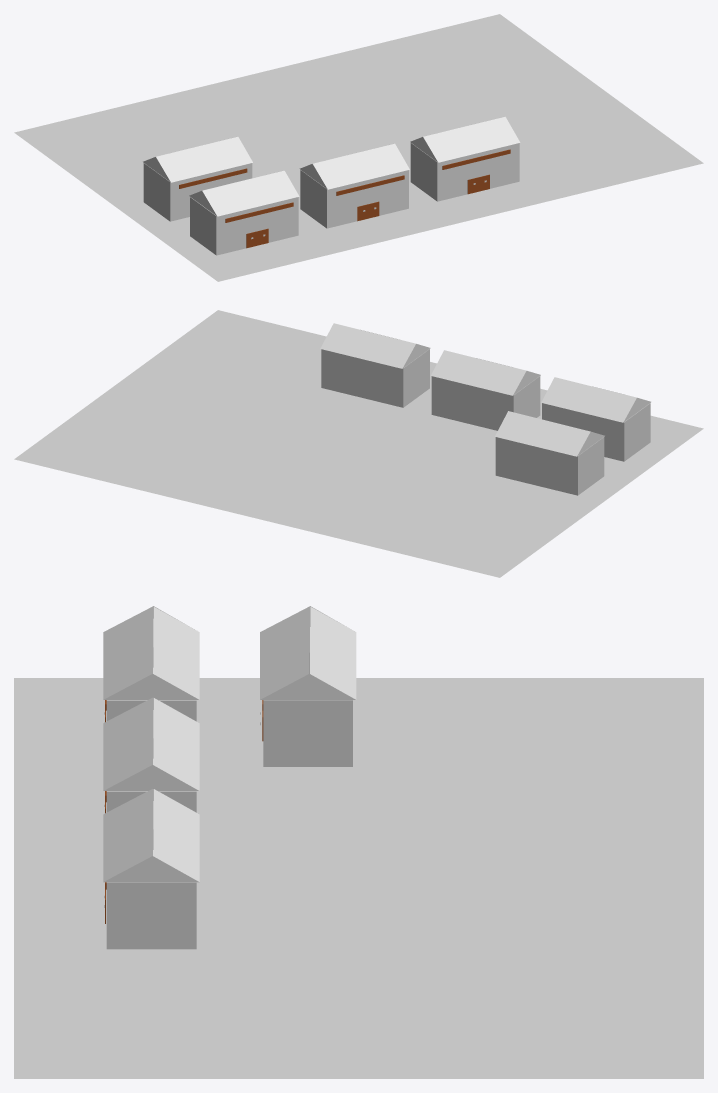
Rendered from dome.glb.
The picture shows the model from 3 angles, top to bottom: view 1: azimuth 30°, elevation 25°; view 2: azimuth 150°, elevation 25°; view 3: azimuth 270°, elevation 25°; orthographic projection. The views are drawn at different scales.
Visible parts, largest first — view 1: ground, 仓房2, 仓房4, 仓房3, 仓房4顶, 仓房1顶., 仓房3顶, 仓房2顶, 仓房1; view 2: ground, 仓房1, 仓房2, 仓房3, 仓房4, 仓房1顶., 仓房2顶, 仓房4顶, 仓房3顶; view 3: ground, 仓房2顶, 仓房1顶., 仓房4顶, 仓房3顶, 仓房2, 仓房1, 仓房3, 仓房4.
Part boxes in pixels (left/top/right/bottom): ground: left=14, top=14, right=703, bottom=281; 仓房2: left=410, top=143, right=519, bottom=201; 仓房4: left=190, top=197, right=298, bottom=255; 仓房3: left=300, top=170, right=408, bottom=228; 仓房4顶: left=189, top=170, right=299, bottom=216; 仓房1顶.: left=143, top=136, right=252, bottom=182; 仓房3顶: left=299, top=143, right=409, bottom=189; 仓房2顶: left=410, top=116, right=520, bottom=162; 仓房1: left=143, top=163, right=252, bottom=221; ground: left=14, top=310, right=703, bottom=577; 仓房1: left=495, top=437, right=604, bottom=495; 仓房2: left=321, top=349, right=429, bottom=407; 仓房3: left=431, top=376, right=540, bottom=430; 仓房4: left=542, top=403, right=650, bottom=461; 仓房1顶.: left=495, top=411, right=604, bottom=456; 仓房2顶: left=320, top=323, right=430, bottom=368; 仓房4顶: left=541, top=377, right=650, bottom=422; 仓房3顶: left=431, top=350, right=540, bottom=395; ground: left=14, top=678, right=703, bottom=1078; 仓房2顶: left=103, top=788, right=199, bottom=882; 仓房1顶.: left=260, top=606, right=356, bottom=699; 仓房4顶: left=103, top=606, right=199, bottom=699; 仓房3顶: left=103, top=697, right=199, bottom=790; 仓房2: left=106, top=882, right=196, bottom=949; 仓房1: left=263, top=700, right=352, bottom=766; 仓房3: left=106, top=791, right=196, bottom=812; 仓房4: left=106, top=700, right=196, bottom=721.
Bounding box in the file's own units: 220 × 24.07 × 160.
